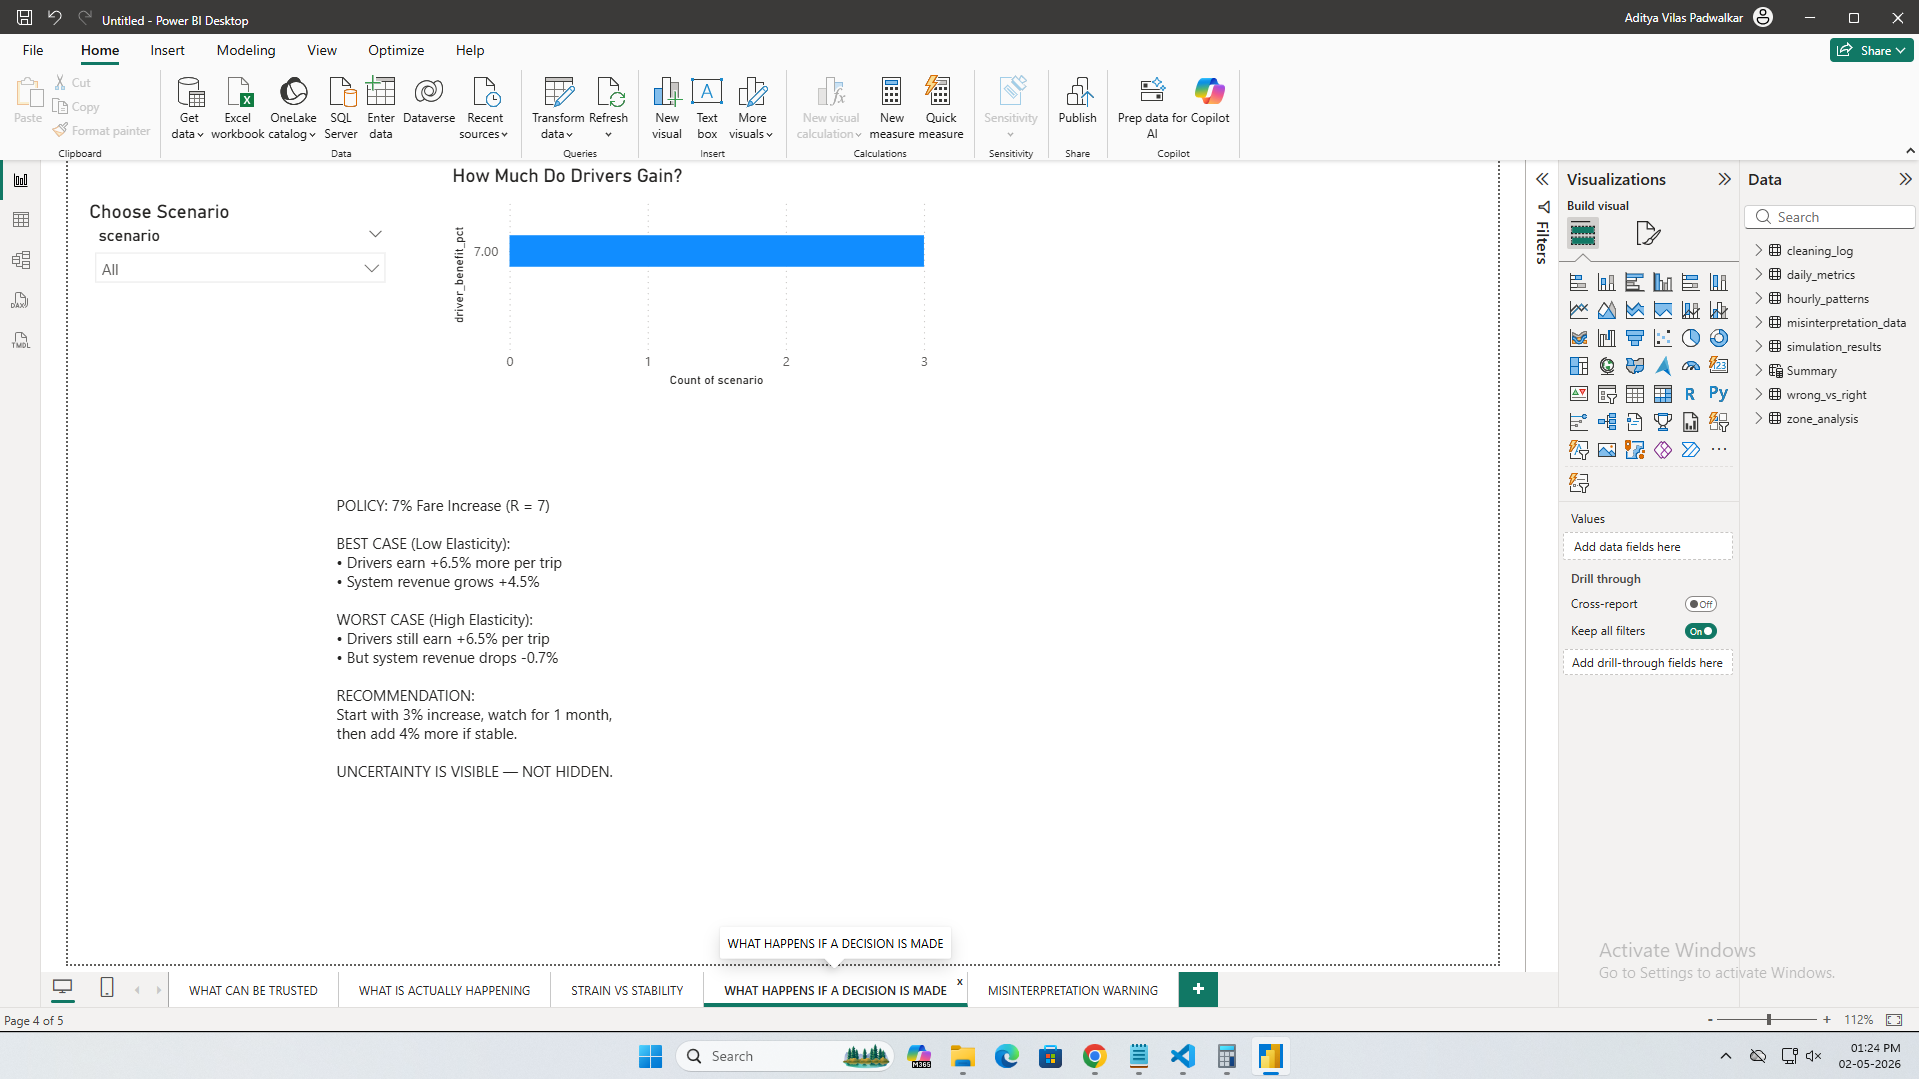

The page's visual inventory and layout, read from the dashboard file:
{"tool":"powerbi","page":{"name":"WHAT HAPPENS IF A DECISION IS MADE","canvas":[1280,720],"ordinal":3},"visuals":[{"type":"slicer","title":"Choose Scenario","fields":{"Values":["simulation_results.scenario"]},"box":[14.3,35.8,280.3,140.6],"z":0},{"type":"barChart","title":"How Much Do Drivers Gain?","fields":{"Y":["CountNonNull(simulation_results.scenario)"],"Category":["simulation_results.driver_benefit_pct"]},"box":[339.4,3.6,436.1,204.2],"z":1},{"type":"textbox","box":[235.5,295.5,693.1,347.5],"z":2}]}

Visuals, with their boxes on the page's 1280x720 design canvas (x1, y1, x2, y2). These are canvas units, not pixel positions in the 1919x1079 screenshot, which may show the page scaled, cropped or inside an application window:
"Choose Scenario" slicer: x1=14, y1=36, x2=295, y2=176
"How Much Do Drivers Gain?" barChart: x1=339, y1=4, x2=776, y2=208
textbox: x1=236, y1=296, x2=929, y2=643
